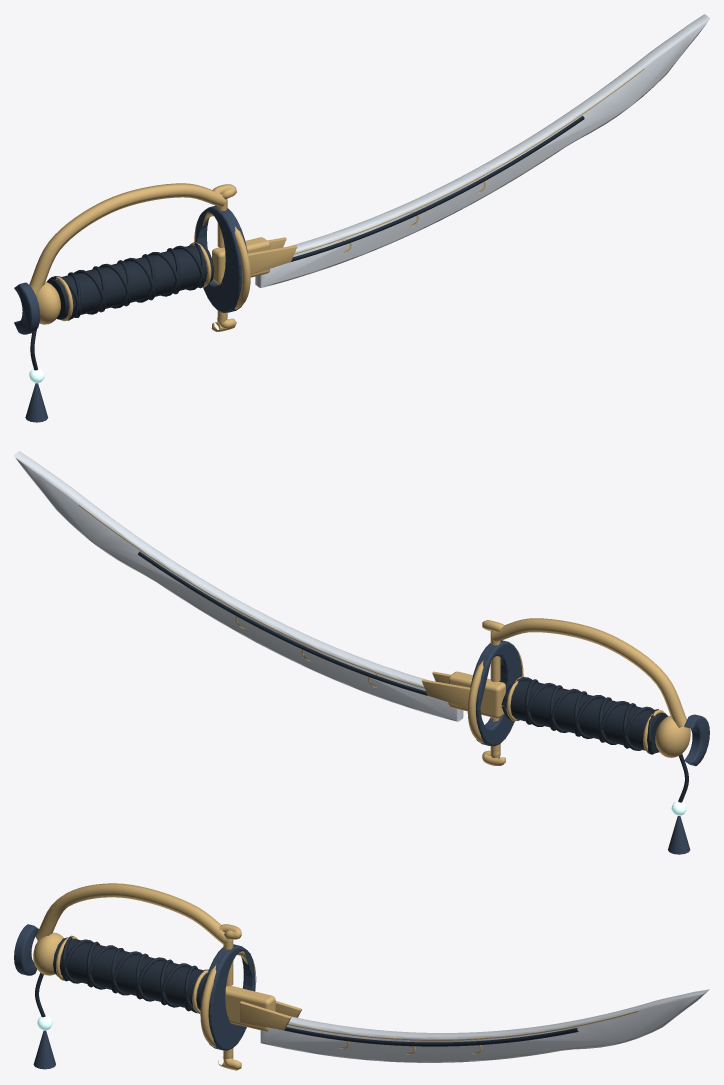
The model's file is crescent-sabre.glb.
3 views of the same model, one above another, from view 1: azimuth 30°, elevation 25°; view 2: azimuth 150°, elevation 25°; view 3: azimuth 330°, elevation 25° (orthographic).
Parts seen in each view (by area): view 1: 06_Refract_Blade__body_Sculpt_blade_metal, 06_Refract_Blade__body_Sculpt_metal, 06_Refract_Blade__body_Sculpt_grip, 06_Refract_Blade__body_Sculpt_coat, 06_Refract_Blade__body_Sculpt_frame; view 2: 06_Refract_Blade__body_Sculpt_blade_metal, 06_Refract_Blade__body_Sculpt_metal, 06_Refract_Blade__body_Sculpt_grip, 06_Refract_Blade__body_Sculpt_coat, 06_Refract_Blade__body_Sculpt_frame; view 3: 06_Refract_Blade__body_Sculpt_blade_metal, 06_Refract_Blade__body_Sculpt_metal, 06_Refract_Blade__body_Sculpt_grip, 06_Refract_Blade__body_Sculpt_coat, 06_Refract_Blade__body_Sculpt_frame.
Part boxes in pixels (<box>): 06_Refract_Blade__body_Sculpt_blade_metal: <box>255,14,709,287</box>; 06_Refract_Blade__body_Sculpt_metal: <box>29,68,644,331</box>; 06_Refract_Blade__body_Sculpt_grip: <box>30,242,214,370</box>; 06_Refract_Blade__body_Sculpt_coat: <box>14,205,247,422</box>; 06_Refract_Blade__body_Sculpt_frame: <box>291,116,584,261</box>; 06_Refract_Blade__body_Sculpt_blade_metal: <box>14,451,463,721</box>; 06_Refract_Blade__body_Sculpt_metal: <box>78,505,690,765</box>; 06_Refract_Blade__body_Sculpt_grip: <box>501,677,688,802</box>; 06_Refract_Blade__body_Sculpt_coat: <box>470,640,709,854</box>; 06_Refract_Blade__body_Sculpt_frame: <box>138,551,427,695</box>; 06_Refract_Blade__body_Sculpt_blade_metal: <box>260,989,709,1062</box>; 06_Refract_Blade__body_Sculpt_metal: <box>33,883,638,1070</box>; 06_Refract_Blade__body_Sculpt_grip: <box>35,935,208,1017</box>; 06_Refract_Blade__body_Sculpt_coat: <box>14,924,255,1069</box>; 06_Refract_Blade__body_Sculpt_frame: <box>279,1027,578,1046</box>.
Size of the model in its own units: 2.23 by 0.7348 by 0.294.
